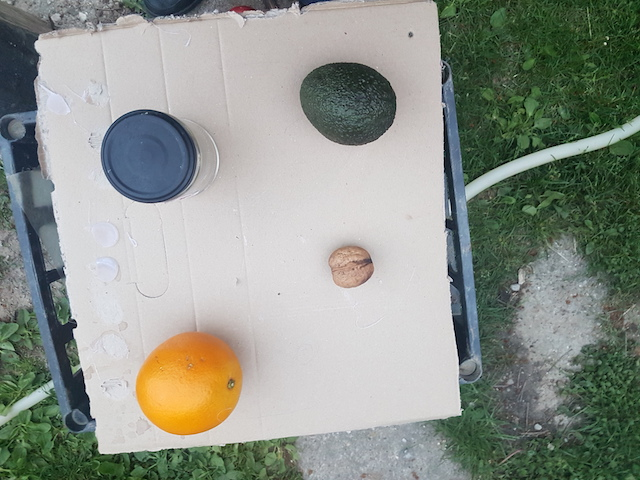avocado: (299, 60, 397, 146)
nut: (329, 246, 377, 290)
orange: (134, 330, 247, 437)
recipient: (99, 110, 193, 206)
